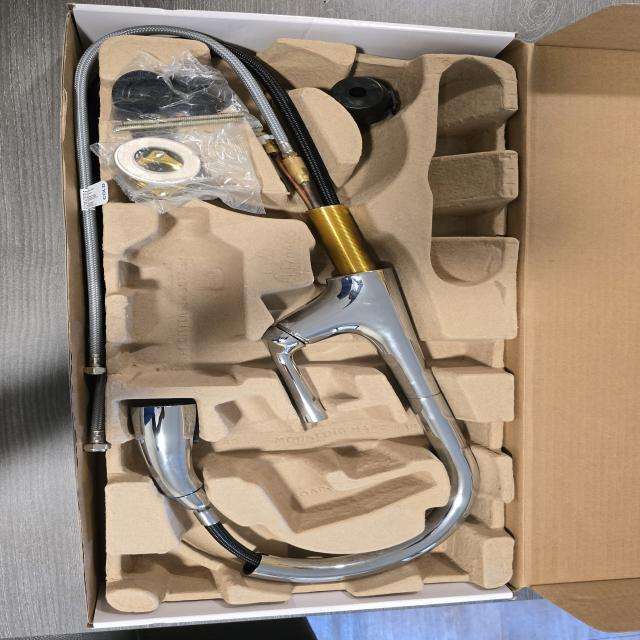1: (128, 34, 480, 585)
2m: (220, 394, 433, 531)
3m: (123, 206, 240, 388)
4m: (425, 59, 505, 290)
5: (332, 75, 402, 122)
6: (88, 119, 265, 215)
7o: (107, 46, 271, 139)
